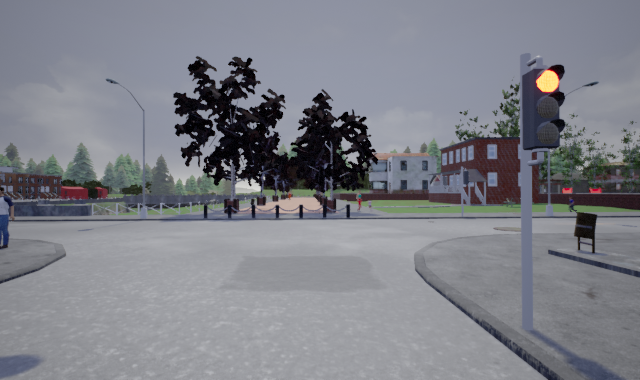pedestrian: (0, 184, 24, 249), (563, 195, 580, 213), (353, 188, 365, 211), (365, 197, 374, 211)
